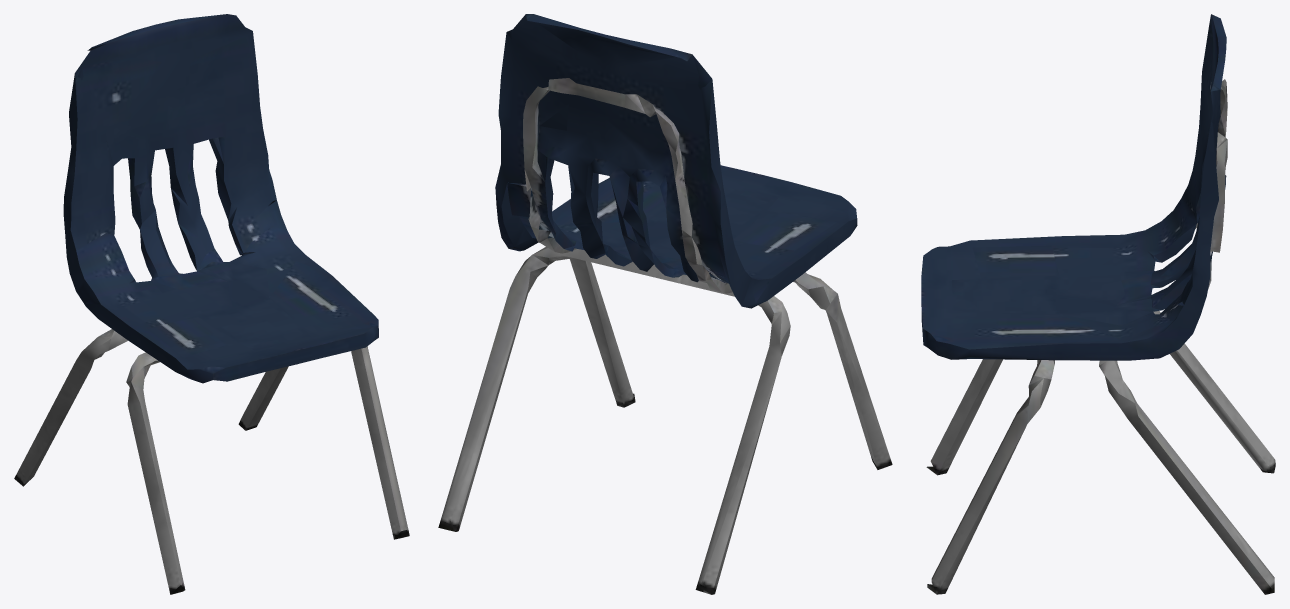
File: chair.glb
3 renders of one model, left to right at view 1: azimuth 30°, elevation 25°; view 2: azimuth 150°, elevation 25°; view 3: azimuth 270°, elevation 25°, orthographic. The views are drawn at different scales.
Visible parts, largest first — view 1: mesh; view 2: mesh; view 3: mesh.
Part boxes in pixels (x1=…): mesh: x1=14, y1=14, x2=409, y2=594; mesh: x1=438, y1=14, x2=892, y2=594; mesh: x1=921, y1=14, x2=1275, y2=594.
Size of the model in its own units: 0.5694 by 1.01 by 0.6693.
Materials: 1 (1 with a texture image).
